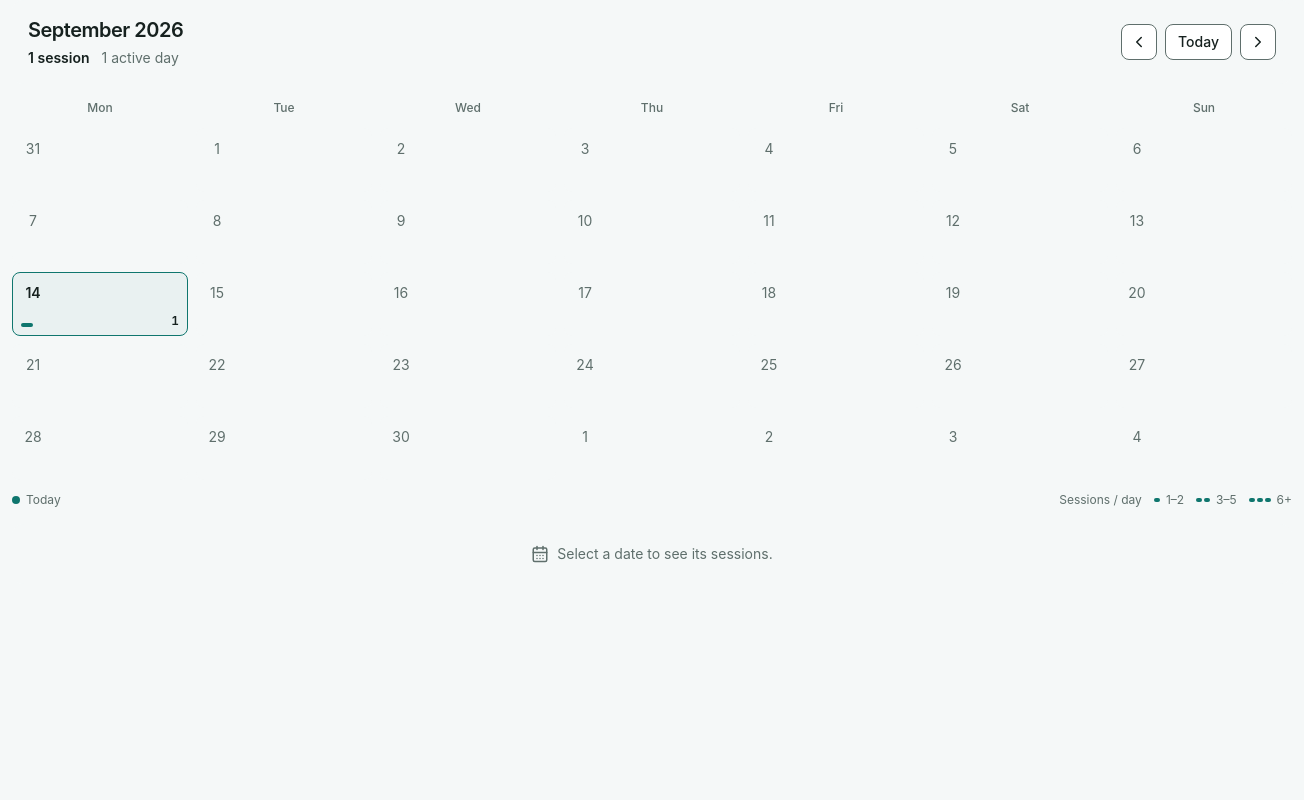
Test case: navigates to the next and previous month and disables cross-month days
This screenshot has width=1304, height=800.
Click the button named "Next month" at (1258, 42), box [1240,24,1276,60]
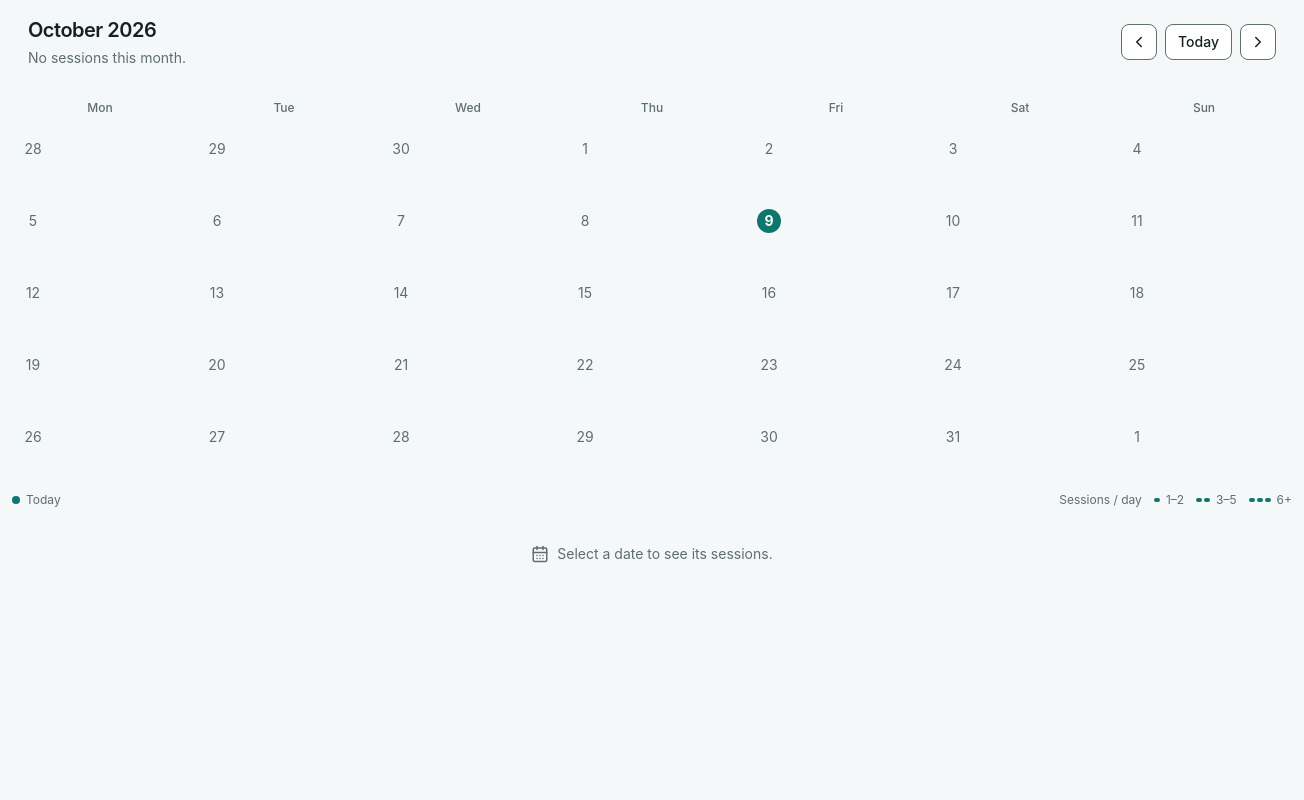
Now the heading "October 2026" is shown, box [28,18,156,42]
Click the button named "Previous month" at (1139, 42), box [1121,24,1157,60]
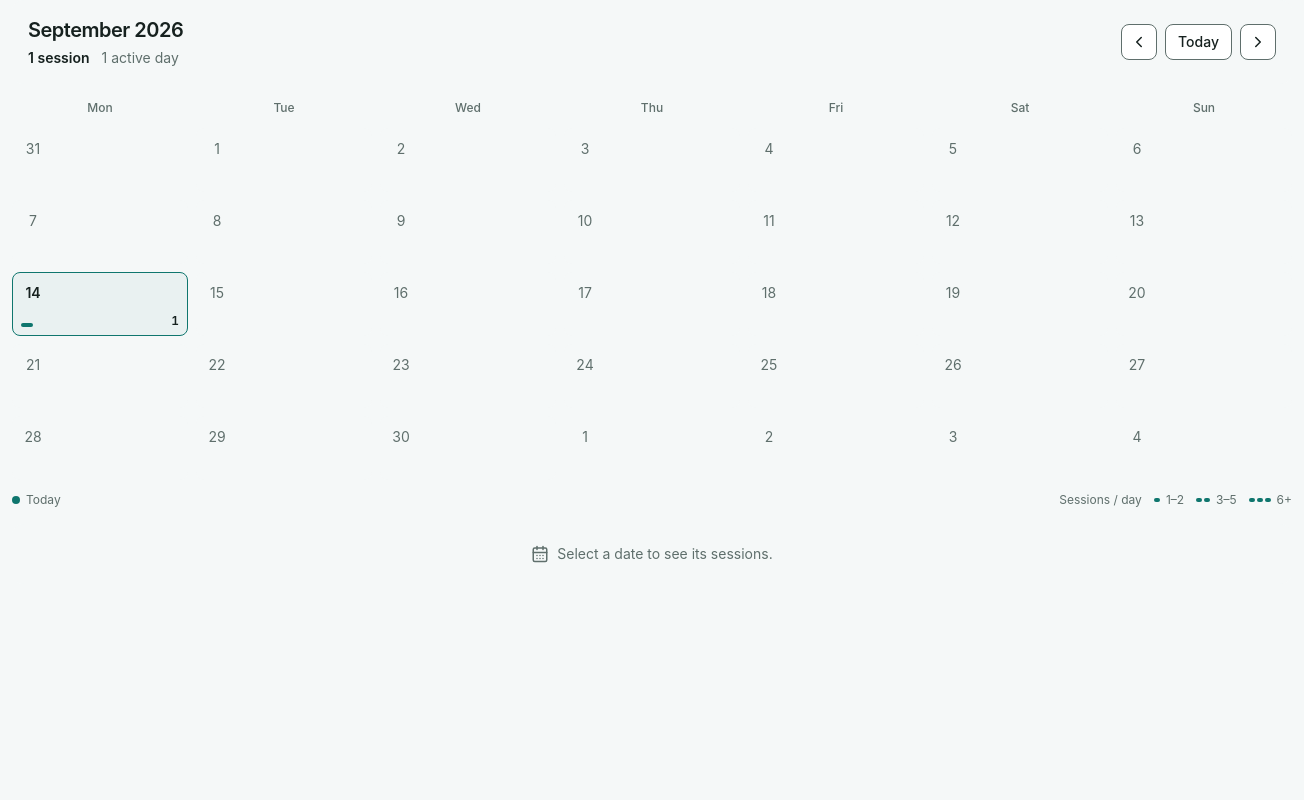
Click the button named "Previous month" at (1139, 42), box [1121,24,1157,60]
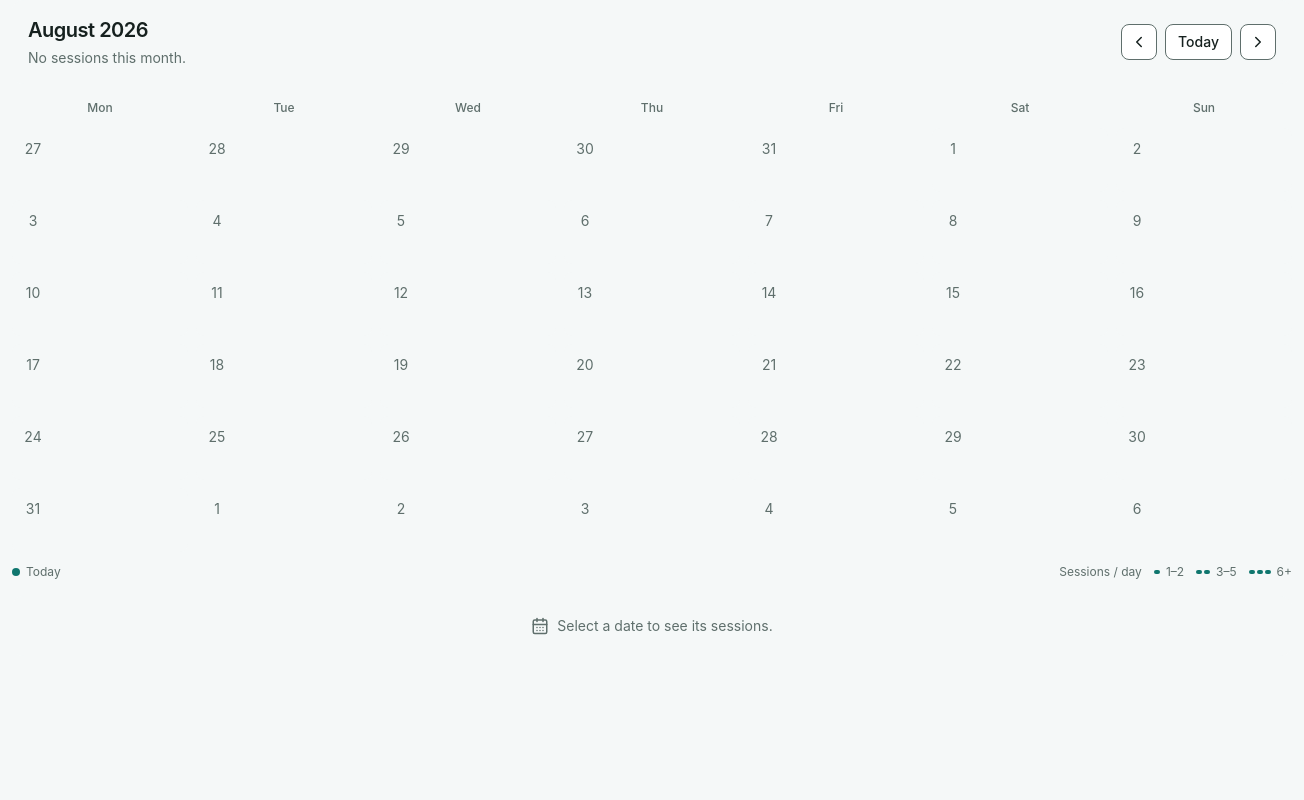
Now the heading "August 2026" is shown, box [28,18,148,42]
Now the text "No sessions this month." is shown, box [28,48,186,68]
